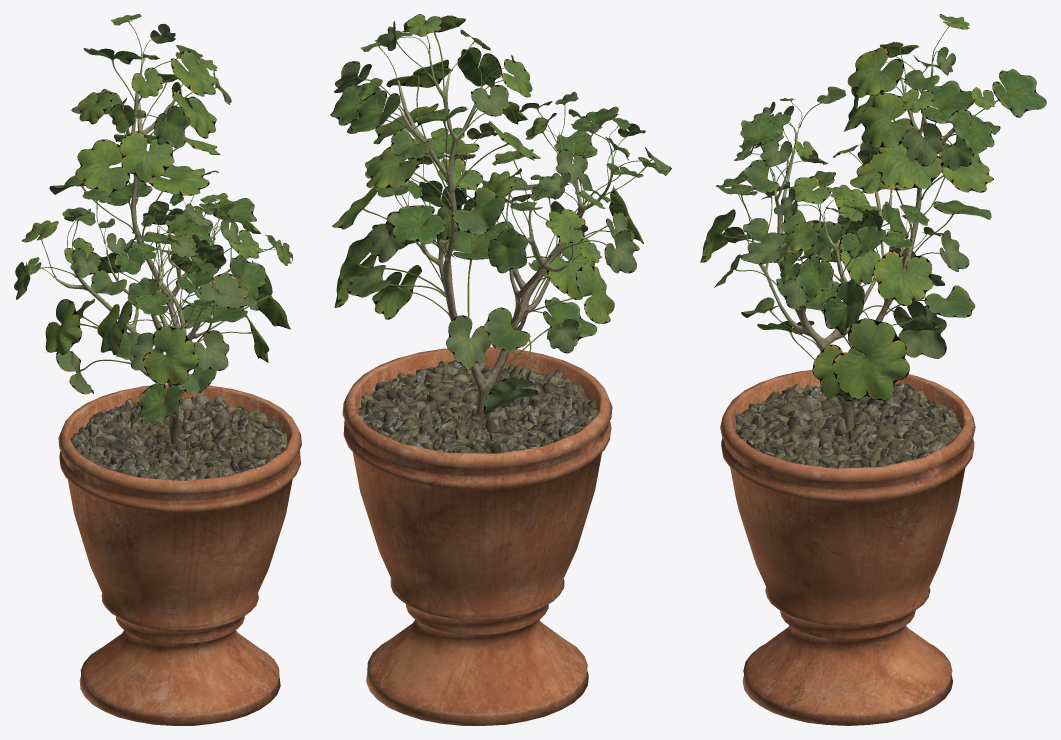
The model's file is plant-tall.glb.
The picture shows the model from 3 angles, left to right: view 1: azimuth 30°, elevation 25°; view 2: azimuth 150°, elevation 25°; view 3: azimuth 270°, elevation 25°; orthographic projection. The views are drawn at different scales.
Visible parts, largest first — view 1: potted_plant_01_pot, potted_plant_01_leaves, potted_plant_01_pebbles, potted_plant_01_stem; view 2: potted_plant_01_pot, potted_plant_01_leaves, potted_plant_01_pebbles, potted_plant_01_stem; view 3: potted_plant_01_pot, potted_plant_01_leaves, potted_plant_01_pebbles, potted_plant_01_stem.
Boxes of the visible parts, x1,y1,x2,y2 form: potted_plant_01_pot: (58, 384, 301, 725); potted_plant_01_leaves: (14, 14, 292, 423); potted_plant_01_pebbles: (71, 392, 287, 480); potted_plant_01_stem: (53, 54, 243, 443); potted_plant_01_pot: (342, 347, 612, 725); potted_plant_01_leaves: (330, 14, 671, 414); potted_plant_01_pebbles: (358, 360, 597, 453); potted_plant_01_stem: (397, 49, 612, 420); potted_plant_01_pot: (720, 369, 975, 725); potted_plant_01_leaves: (700, 14, 1046, 401); potted_plant_01_pebbles: (735, 382, 961, 468); potted_plant_01_stem: (751, 55, 966, 431).
Size of the model in its own units: 0.5874 by 1.34 by 0.6336.
2 materials, 2 textured.
